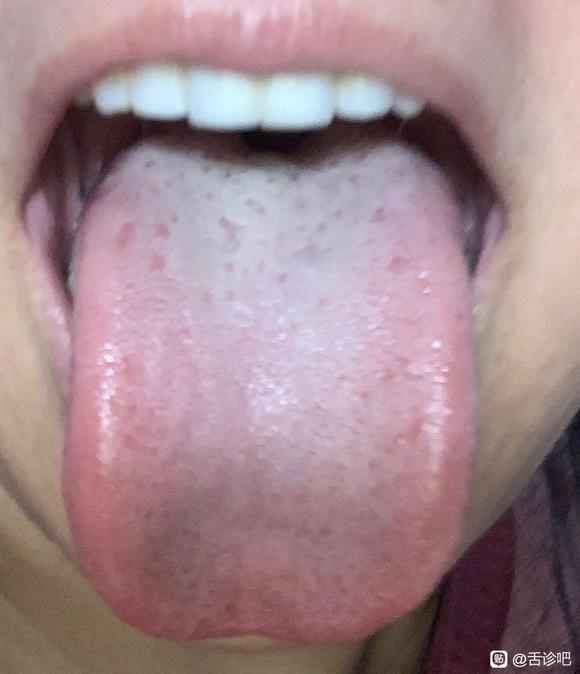baitaishe: (63, 123, 476, 645)
hongshe: (63, 123, 476, 645)
